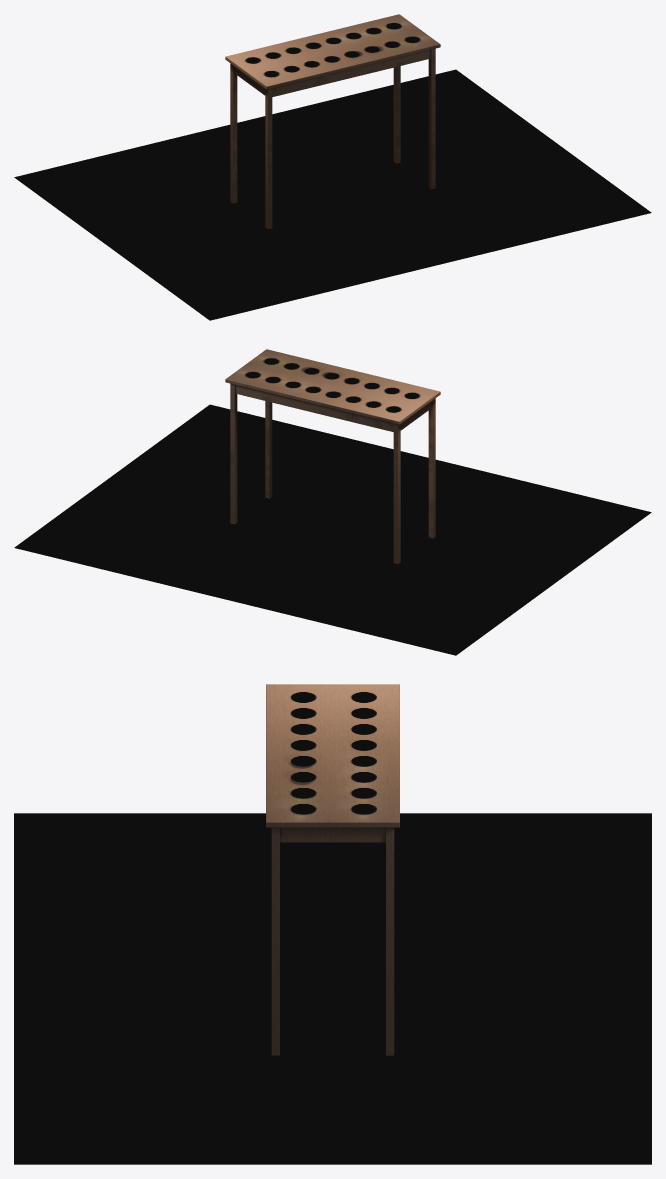
Rendered from 802_rows.glb.
3 renders of one model, top to bottom at view 1: azimuth 30°, elevation 25°; view 2: azimuth 150°, elevation 25°; view 3: azimuth 270°, elevation 25°, orthographic. The views are drawn at different scales.
Visible parts, largest first — view 1: Shadow, Table; view 2: Shadow, Table; view 3: Shadow, Table.
Boxes of the visible parts, bbox=[...] form: Shadow: bbox=[14, 69, 651, 320]; Table: bbox=[225, 14, 440, 229]; Shadow: bbox=[14, 404, 651, 655]; Table: bbox=[225, 349, 440, 564]; Shadow: bbox=[14, 813, 651, 1164]; Table: bbox=[266, 684, 399, 1055].
Bounding box in the file's own units: 9.9 × 3.1 × 7.6.
2 materials, 2 textured.
